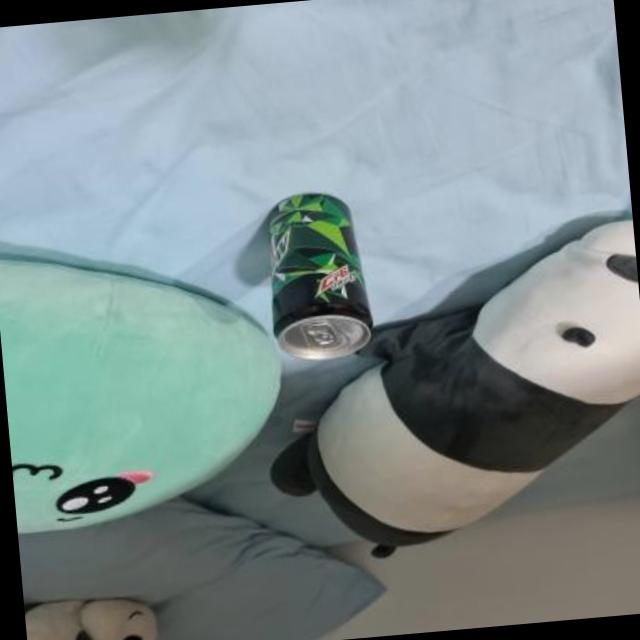metal: (269, 194, 372, 359)
